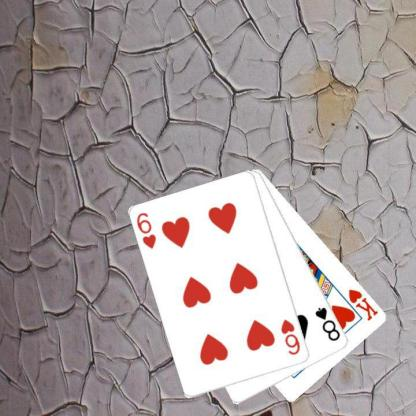6H: (134, 210, 158, 250), (278, 316, 301, 356)
8S: (313, 304, 342, 342)
KH: (346, 286, 380, 322)
